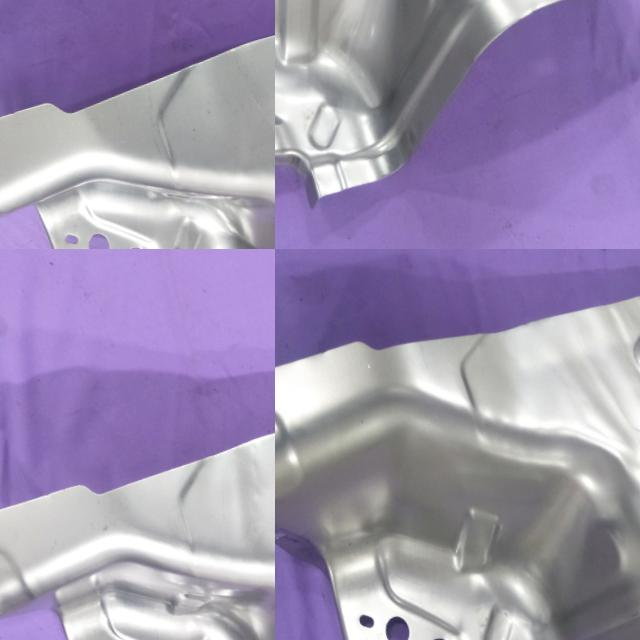Defect: (0, 0, 275, 249)
Healthy: (275, 249, 640, 640), (275, 0, 640, 249)
